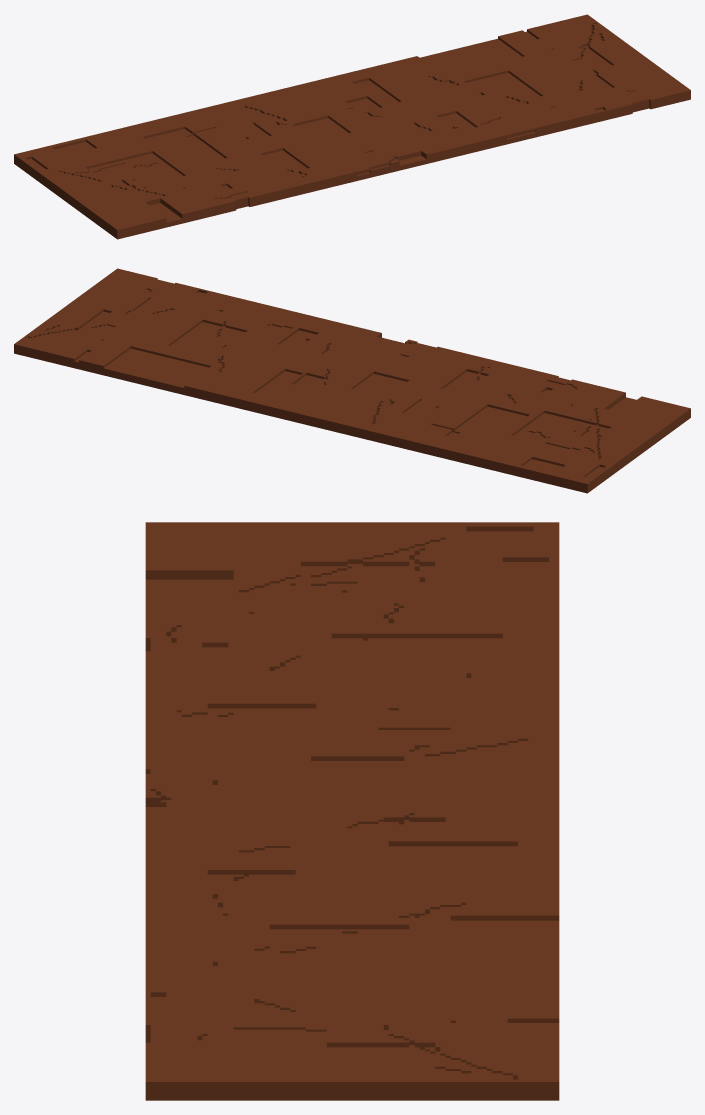
The model's file is Earth.obj.
The picture shows the model from 3 angles, top to bottom: view 1: azimuth 30°, elevation 25°; view 2: azimuth 150°, elevation 25°; view 3: azimuth 270°, elevation 25°; orthographic projection. The views are drawn at different scales.
Size of the model in its own units: 25.6 by 0.4 by 8.
Materials: 1 (1 with a texture image).
